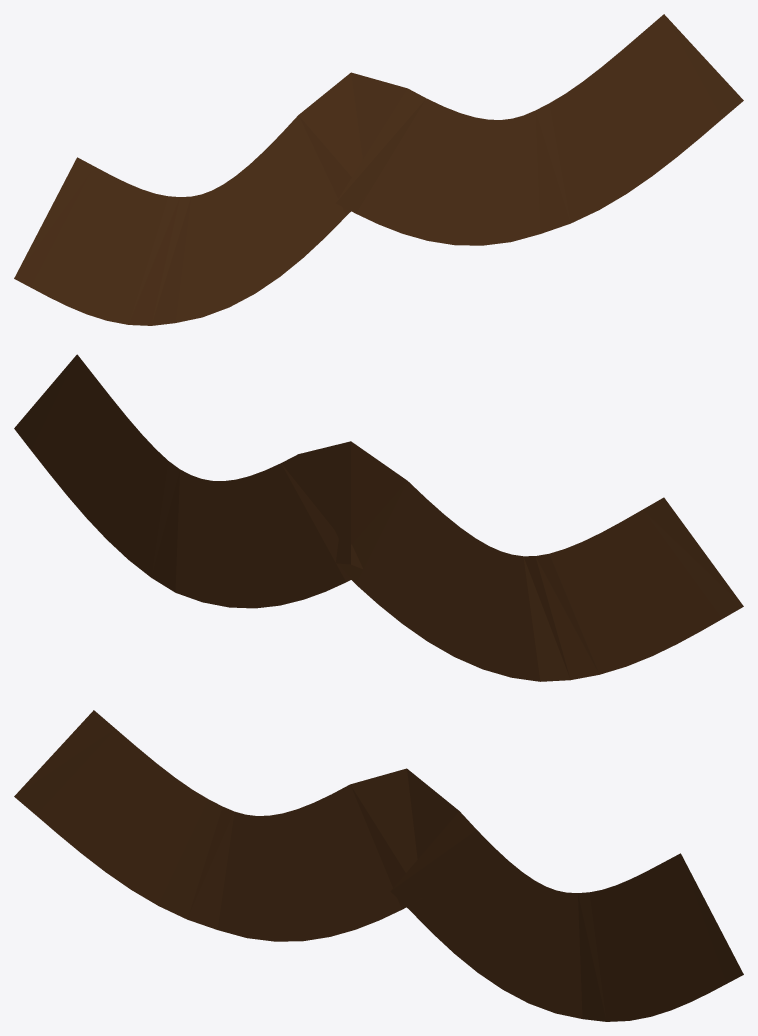
File: Moustache.glb
3 renders of one model, top to bottom at view 1: azimuth 30°, elevation 25°; view 2: azimuth 150°, elevation 25°; view 3: azimuth 330°, elevation 25°, orthographic.
Parts seen in each view (by area): view 1: geometry_0; view 2: geometry_0; view 3: geometry_0.
Part boxes in pixels (left/top/right/bottom): geometry_0: left=14, top=14, right=743, bottom=325; geometry_0: left=14, top=354, right=743, bottom=681; geometry_0: left=14, top=710, right=743, bottom=1021.
Size of the model in its own units: 0.2106 by 0.0563 by 0.014.
